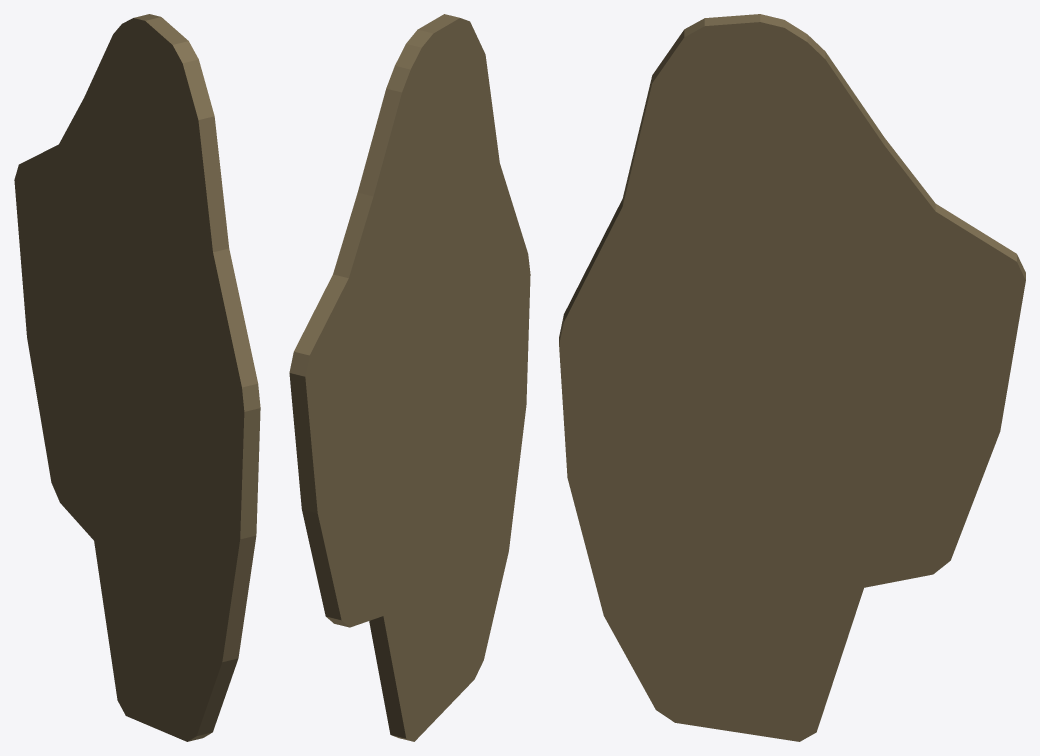
File: Menina.fbx
3 renders of one model, left to right at view 1: azimuth 30°, elevation 25°; view 2: azimuth 150°, elevation 25°; view 3: azimuth 270°, elevation 25°, orthographic. The views are drawn at different scales.
Parts seen in each view (by area): view 1: Plane; view 2: Plane; view 3: Plane.
Part boxes in pixels (x1,y1,x2,y2): Plane: (14, 14, 260, 741); Plane: (289, 14, 530, 741); Plane: (559, 14, 1025, 741).
Bounding box in the file's own units: 2.43 × 101 × 59.59.
